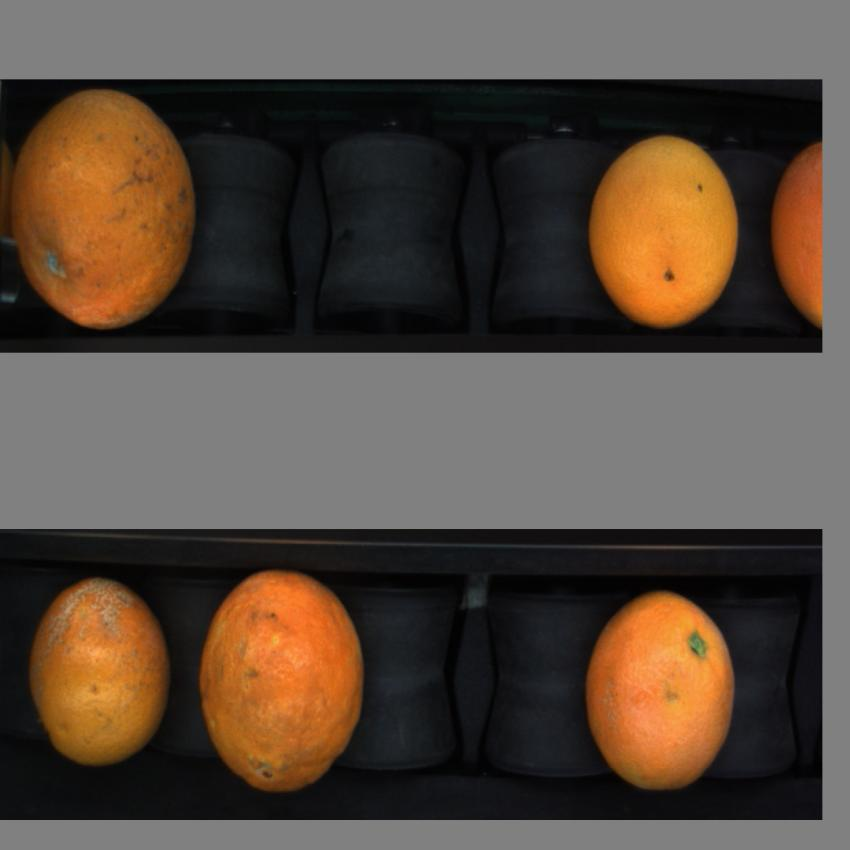Buen estado: (9, 81, 200, 335), (586, 125, 744, 340), (581, 592, 741, 800), (764, 136, 822, 328)
Mal estado: (192, 559, 371, 799), (22, 572, 182, 770)
